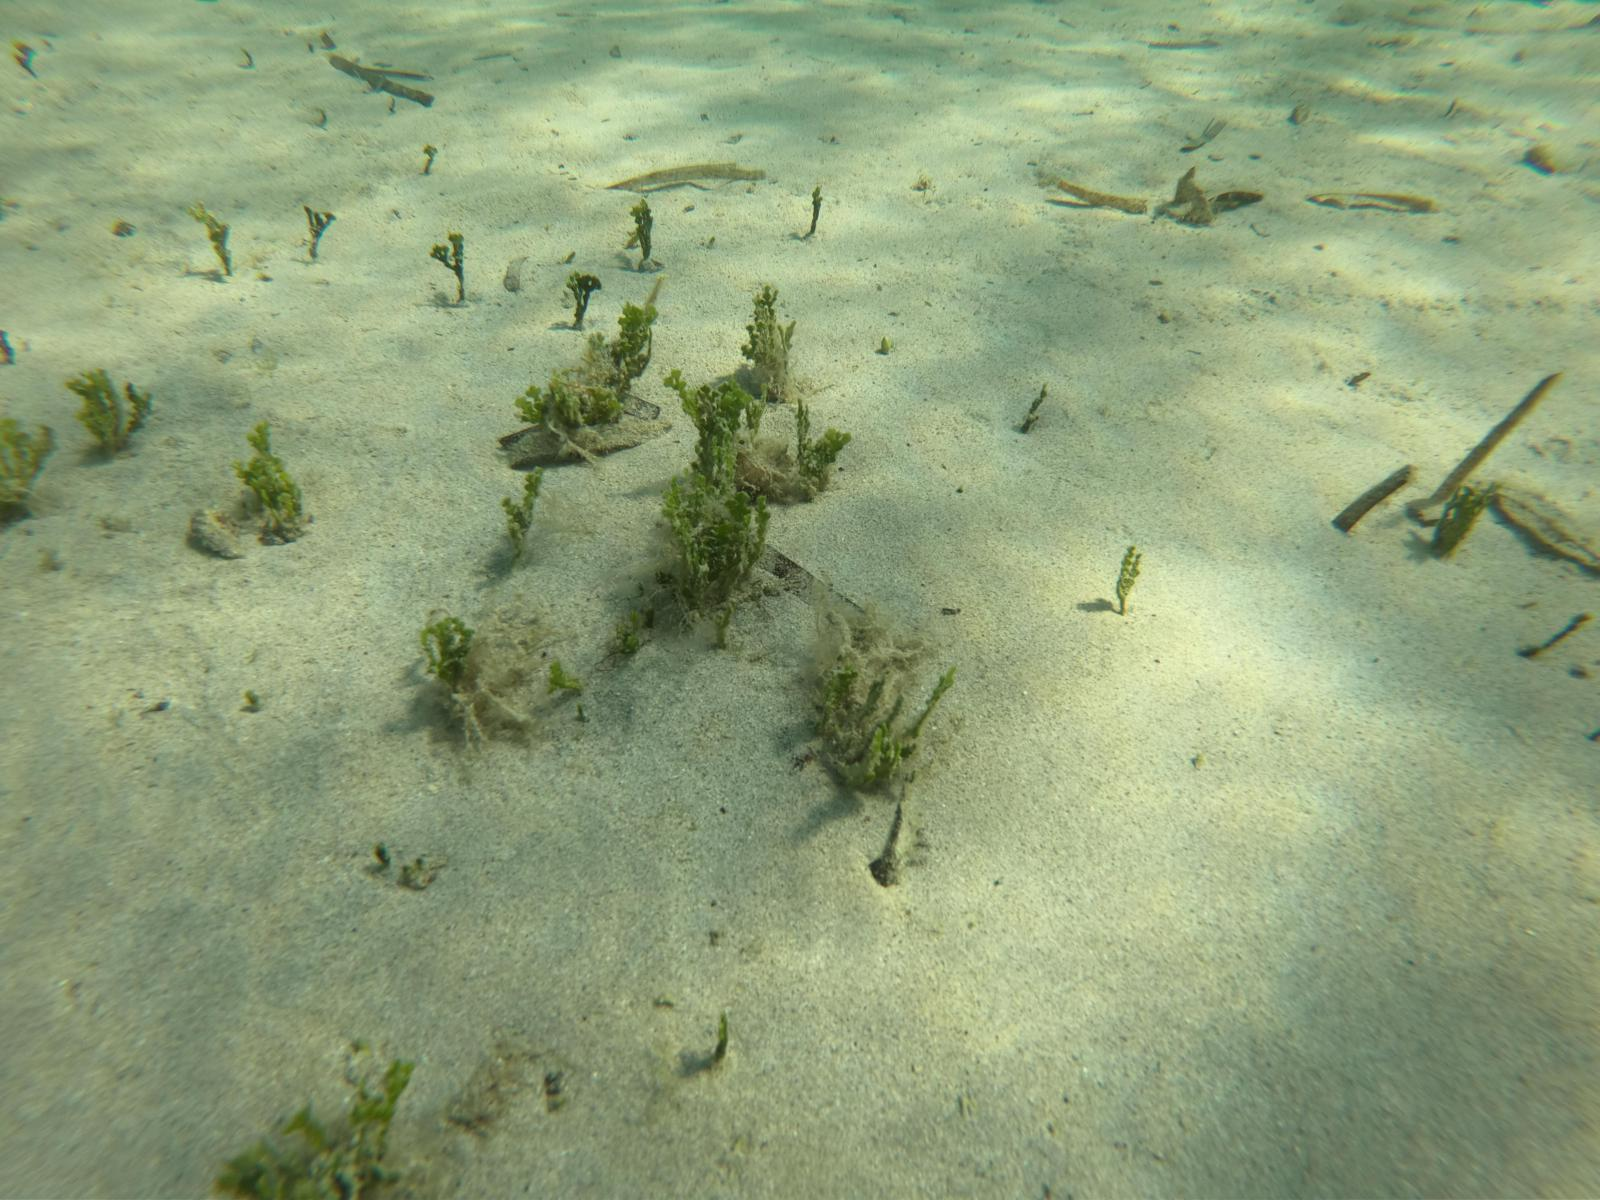halimeda: (223, 1059, 416, 1200), (826, 663, 950, 800), (663, 482, 767, 591), (231, 424, 304, 536), (677, 378, 763, 469), (64, 367, 154, 454), (517, 378, 625, 437), (1, 416, 58, 505), (790, 398, 850, 480), (737, 285, 790, 377), (1432, 484, 1495, 556), (609, 295, 663, 377), (181, 199, 236, 276), (421, 616, 476, 689), (501, 466, 546, 547), (430, 229, 472, 297), (624, 192, 660, 268), (558, 263, 600, 328), (299, 204, 334, 258), (1115, 546, 1143, 613), (808, 190, 823, 234), (423, 146, 436, 171)
